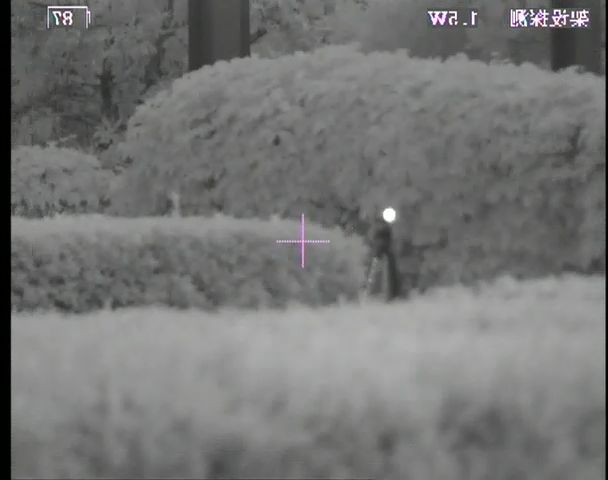my: (380, 207, 397, 223)
